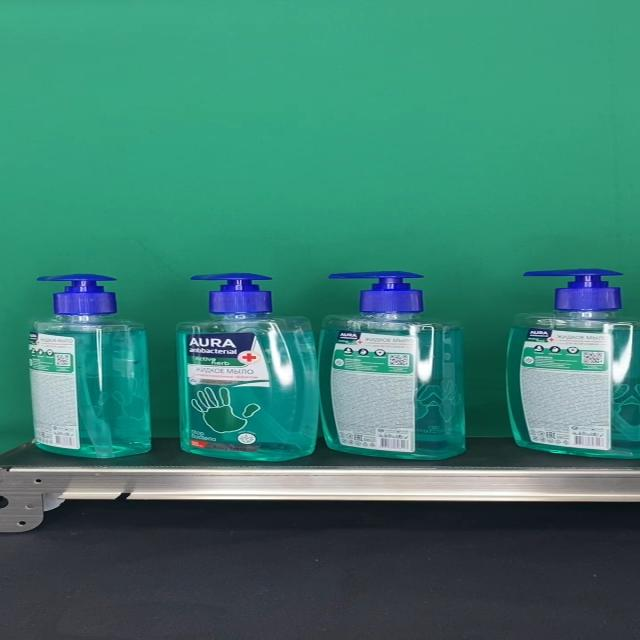Bottle: (318, 272, 465, 460), (175, 272, 318, 460), (505, 269, 640, 459), (28, 273, 151, 458)
Cap: (522, 269, 622, 313), (328, 272, 423, 315), (187, 272, 273, 314), (36, 273, 118, 314)
